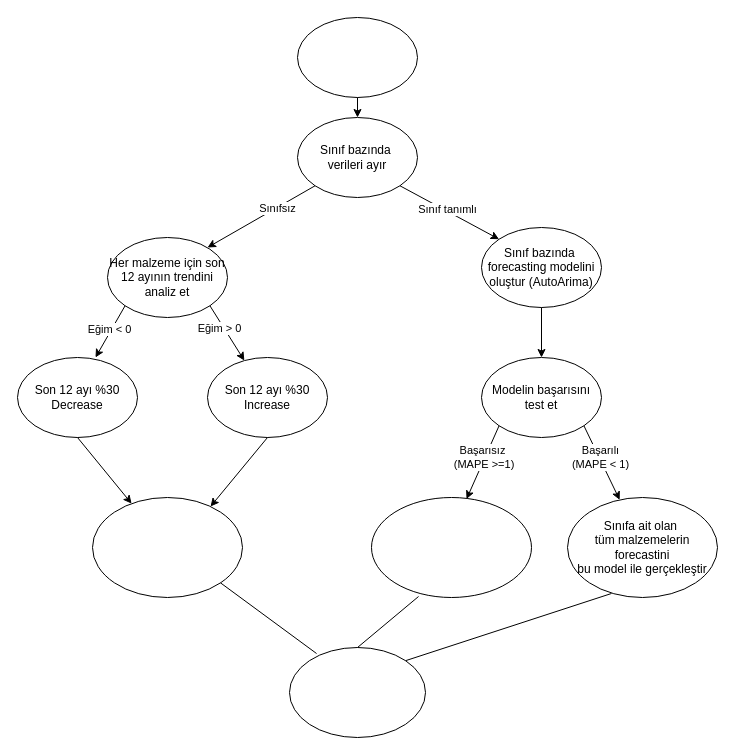
Some shapes in this 735 by 755 pixel diagram are drawn without their labels. The centre of each missing label's shape, as x and y in pixels:
Her malzemenin AutoArima ile kendi modeli oluşturulur ve forecasting yapılır: (451,547)
Sonucu yeni 12 aylık tahmin için Kopyala + Yapıştır: (167,547)
Sınıf bazlı sonuçları birleştir ve Raporla: (357,692)
Veriseti: (357,57)
